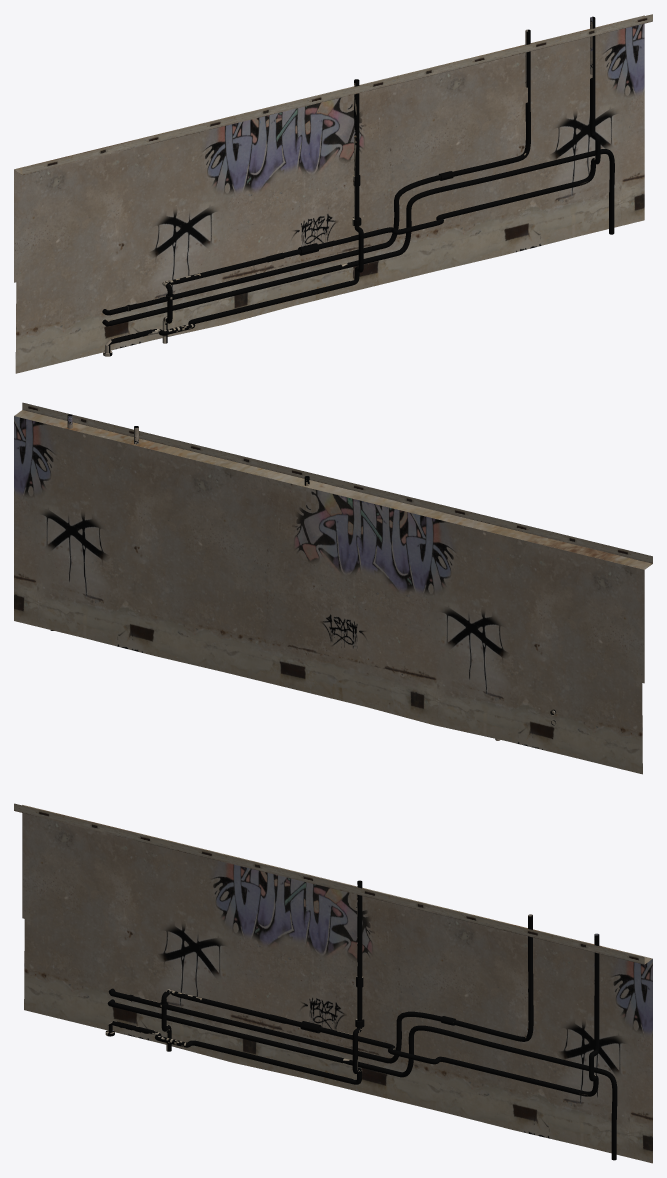
Rendered from Pipes.obj.
The picture shows the model from 3 angles, top to bottom: view 1: azimuth 30°, elevation 25°; view 2: azimuth 150°, elevation 25°; view 3: azimuth 330°, elevation 25°; orthographic projection.
Visible parts, largest first — view 1: Bake; view 2: Bake; view 3: Bake.
Boxes of the visible parts, x1,y1,x2,y2 form: Bake: (14,14,652,373); Bake: (14,402,652,774); Bake: (14,803,652,1163).
Bounding box in the file's own units: 13.43 × 4.56 × 0.4036.
